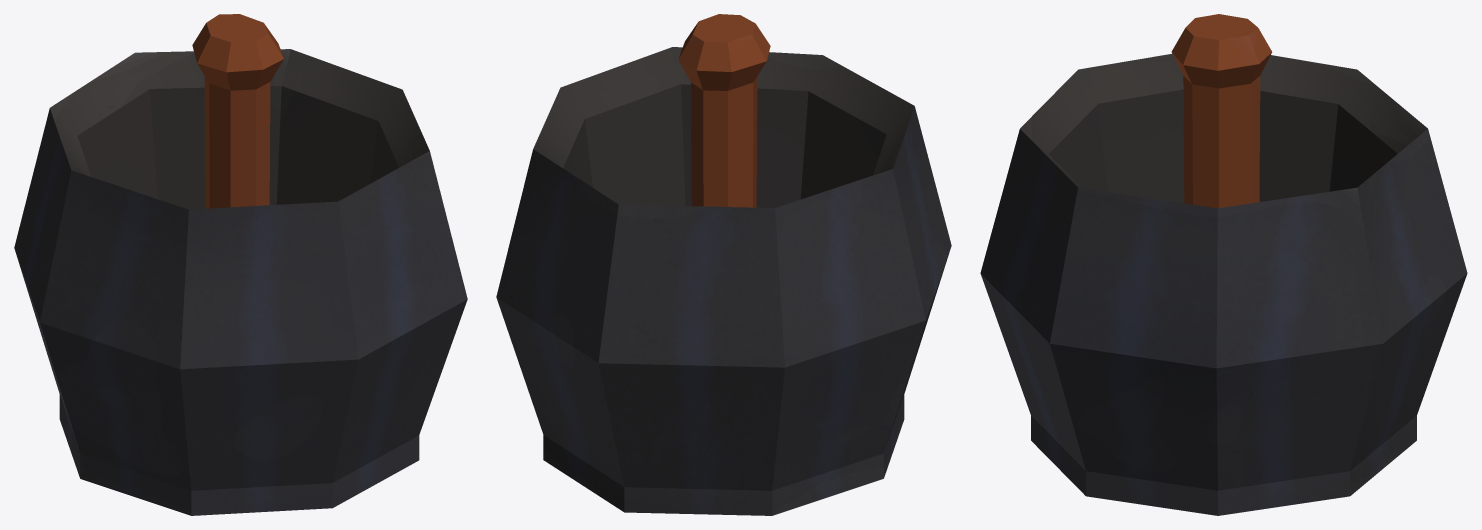
The model's file is AlchemyStationPot.fbx.
The picture shows the model from 3 angles, left to right: view 1: azimuth 30°, elevation 25°; view 2: azimuth 150°, elevation 25°; view 3: azimuth 270°, elevation 25°; orthographic projection.
Visible parts, largest first — view 1: AlchemyStationPot; view 2: AlchemyStationPot; view 3: AlchemyStationPot.
Boxes of the visible parts, <box> form: AlchemyStationPot: <box>14,14,467,515</box>; AlchemyStationPot: <box>496,14,951,515</box>; AlchemyStationPot: <box>980,14,1467,515</box>.
Bounding box in the file's own units: 65.73 × 65.3 × 69.86.
